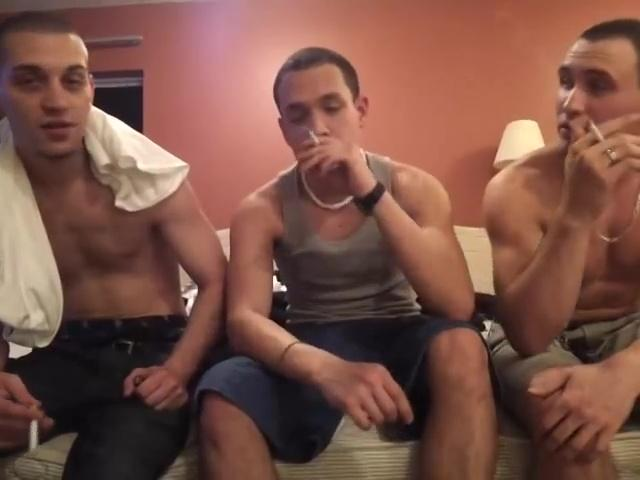cigarette: (25, 402, 40, 459), (586, 117, 607, 143), (308, 127, 323, 148)
